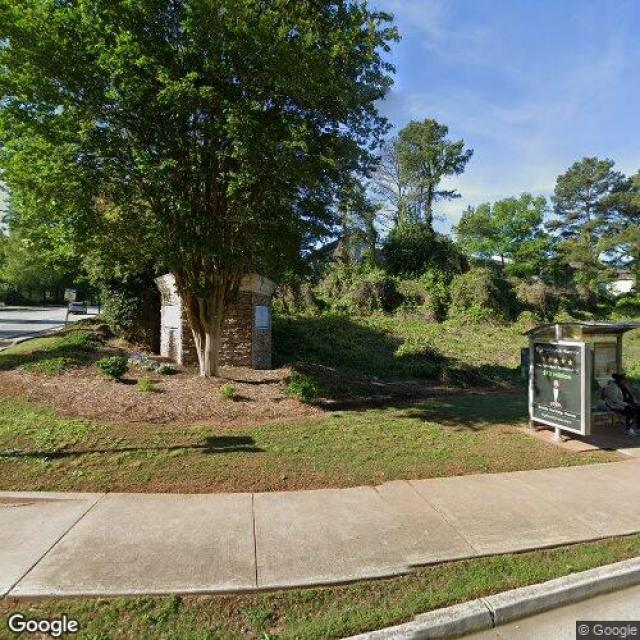seating: (591, 403, 640, 428)
shelter: (523, 322, 640, 441)
